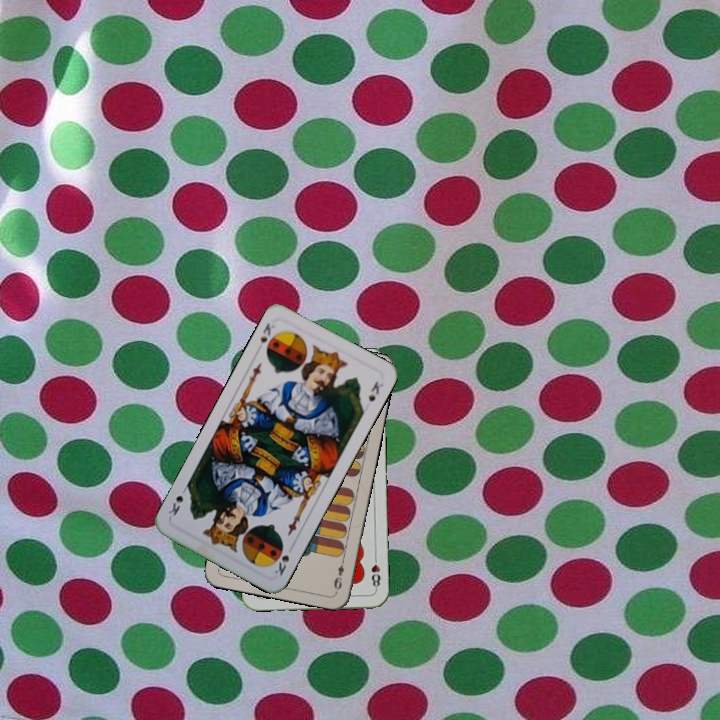E9: (330, 554, 347, 592)
H8: (367, 552, 383, 592)
SK: (270, 551, 292, 578), (256, 319, 277, 346)
